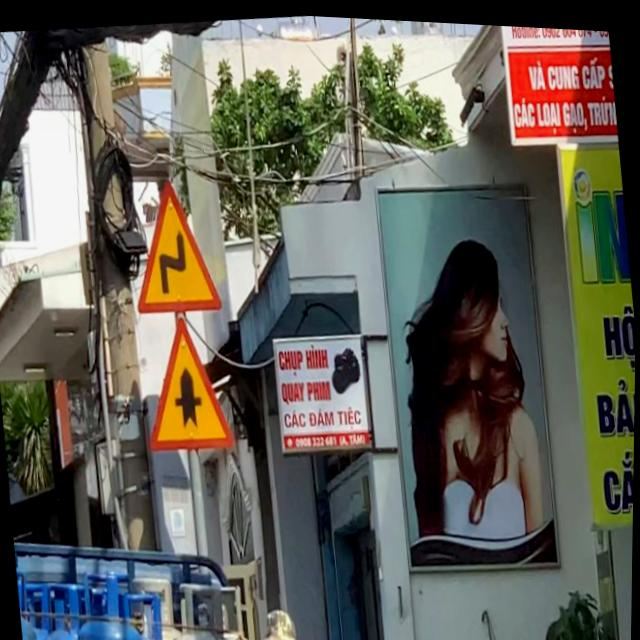Giao nhau voi duong khong uu tien: (137, 306, 240, 455)
Nhieu cho ngoat lien tiep ben phai: (124, 171, 227, 318)
